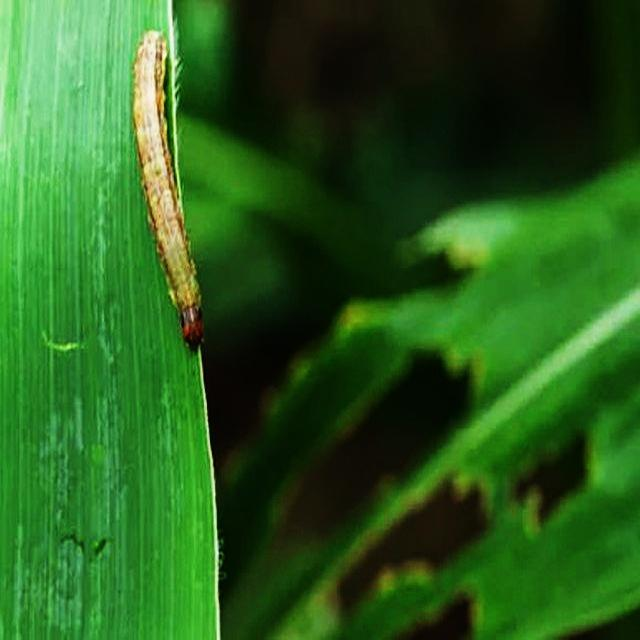Plaga: (133, 28, 210, 350)
